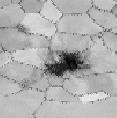good_void: (43, 47, 90, 78), (16, 24, 26, 32)
